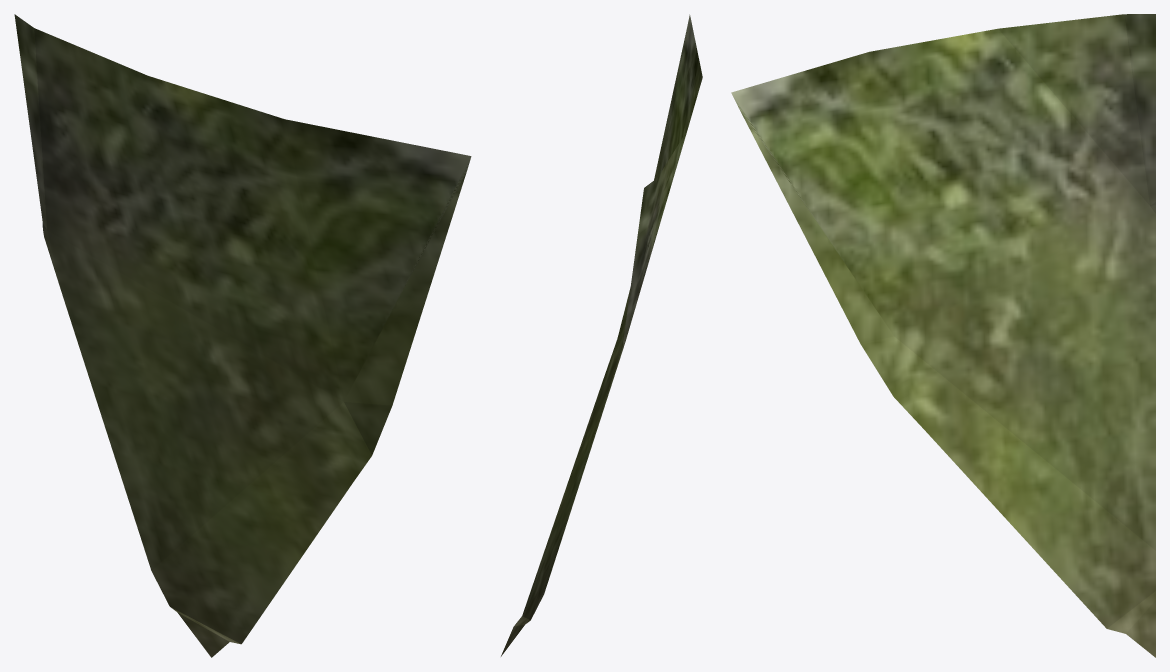
The picture shows the model from 3 angles, left to right: view 1: azimuth 30°, elevation 25°; view 2: azimuth 150°, elevation 25°; view 3: azimuth 270°, elevation 25°; orthographic projection. The views are drawn at different scales.
Bounding box in the file's own units: 0.4651 × 1.56 × 1.06.
Materials: 1 (1 with a texture image).
